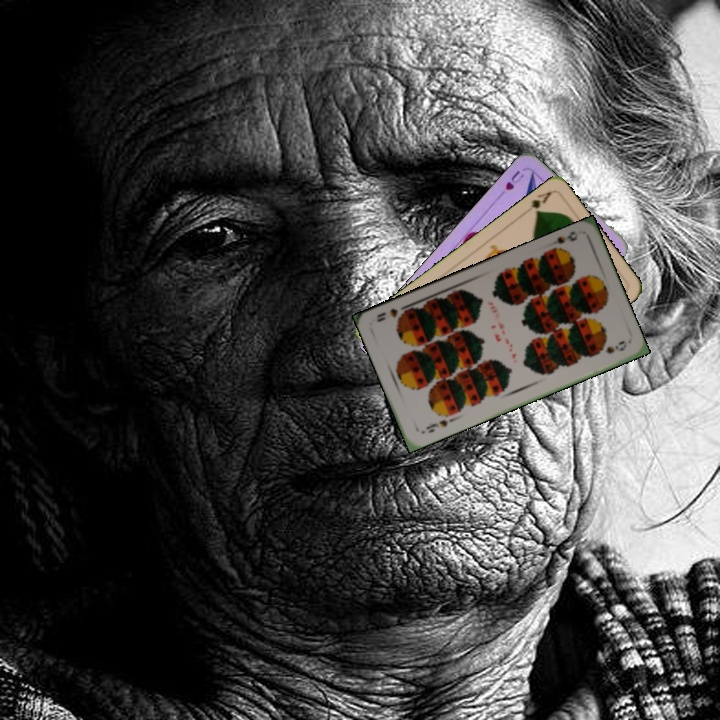GA: (519, 187, 554, 217)
HU: (496, 166, 527, 199)
S9: (546, 227, 580, 255), (422, 415, 451, 436)
